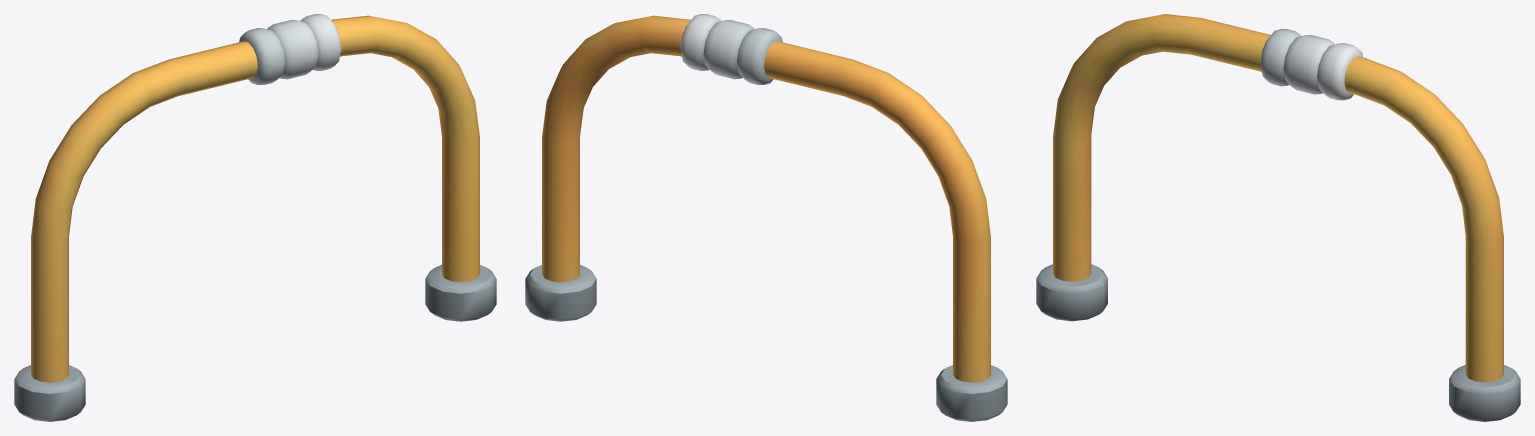
File: arch_wide_yellow.glb
3 views of the same model, side by side, from view 1: azimuth 30°, elevation 25°; view 2: azimuth 150°, elevation 25°; view 3: azimuth 330°, elevation 25° (orthographic).
Parts seen in each view (by area): view 1: arch_wide_yellow; view 2: arch_wide_yellow; view 3: arch_wide_yellow.
Part boxes in pixels (<box>): arch_wide_yellow: <box>14,14,496,421</box>; arch_wide_yellow: <box>525,14,1007,421</box>; arch_wide_yellow: <box>1036,14,1520,421</box>.
Size of the model in its own units: 5.75 by 3.8 by 0.75.
Materials: 1 (1 with a texture image).
